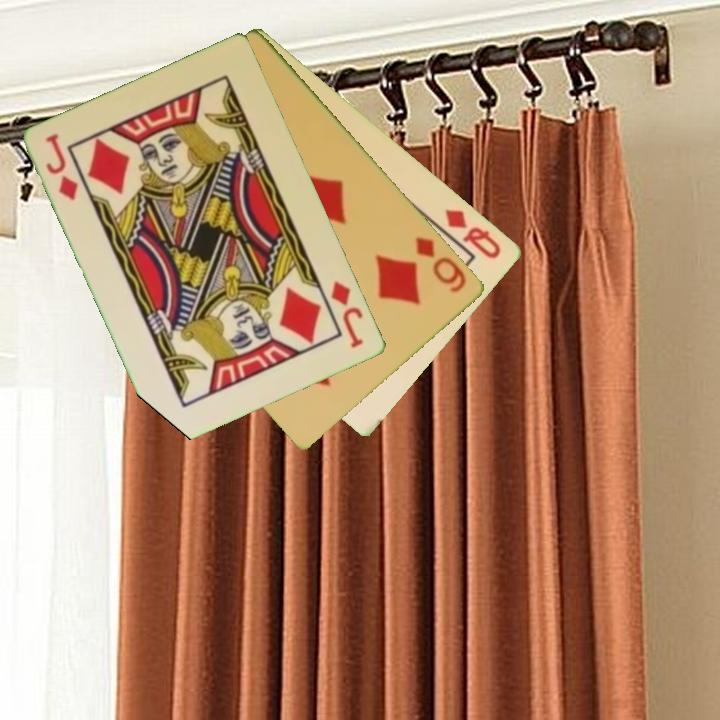6d: (412, 233, 470, 296)
Jd: (327, 277, 367, 351), (42, 130, 82, 204)
Qd: (441, 205, 505, 262)
